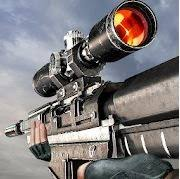gun: (2, 1, 179, 178)
